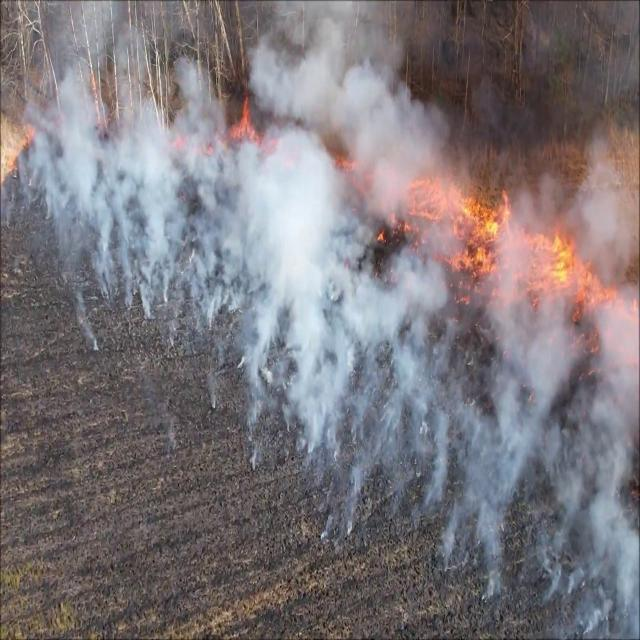Fire: (463, 190, 582, 300)
Smoke: (232, 125, 346, 480), (250, 3, 444, 202), (487, 217, 574, 608), (42, 68, 124, 338), (586, 275, 640, 640), (134, 86, 195, 323)
